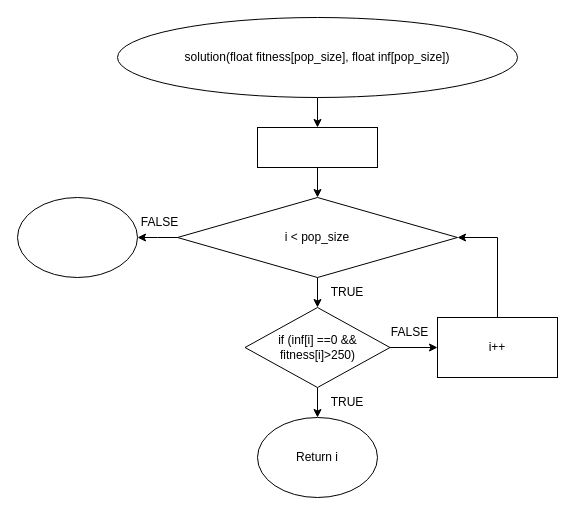
This 575x515 diagram has some shape labels left out. The box of each missing label's shape, as (x1, y1, x2, y2) in pixels:
i =0: (256, 126, 378, 168)
return 0: (16, 196, 138, 278)
